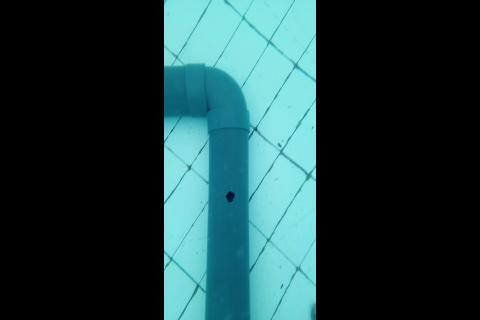kebocoran: (224, 189, 236, 203)
